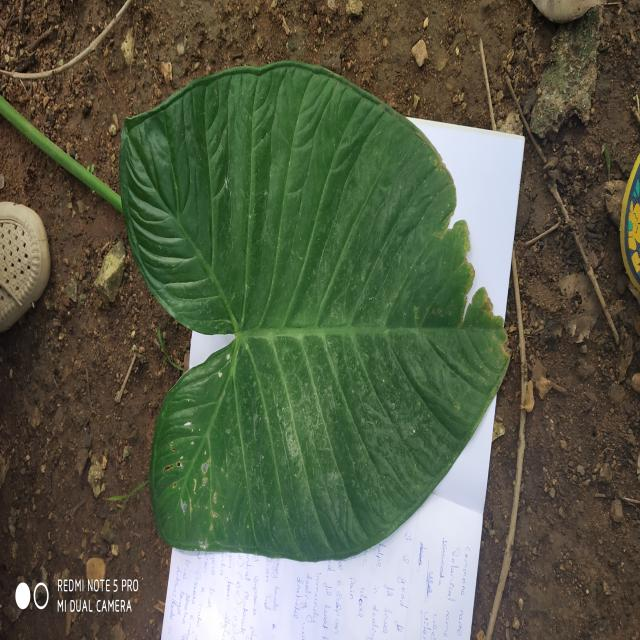defectedtaro: (344, 91, 472, 453)
taro: (120, 62, 509, 562)
